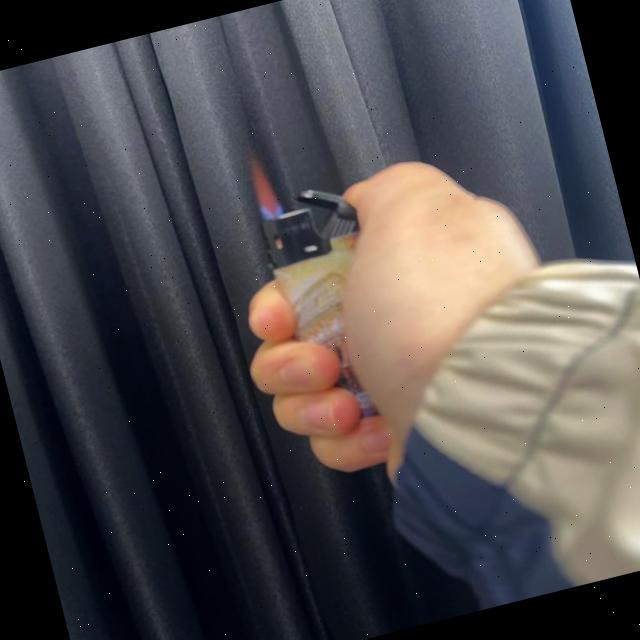fire: (247, 151, 286, 223)
